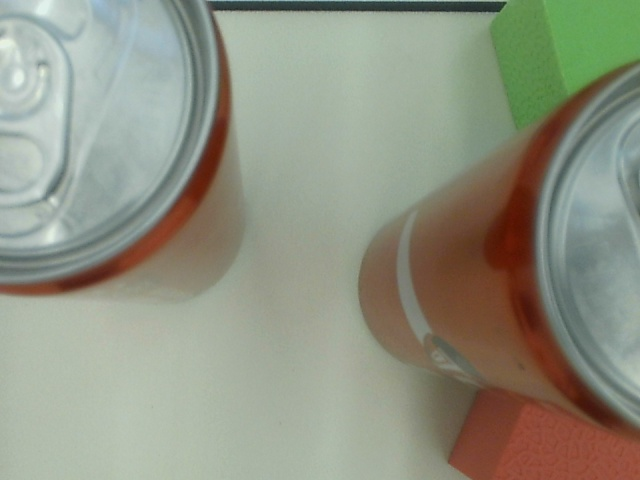cola: (355, 58, 640, 437), (1, 1, 239, 305)
greencube: (481, 1, 640, 146)
redcube: (444, 341, 640, 480)
